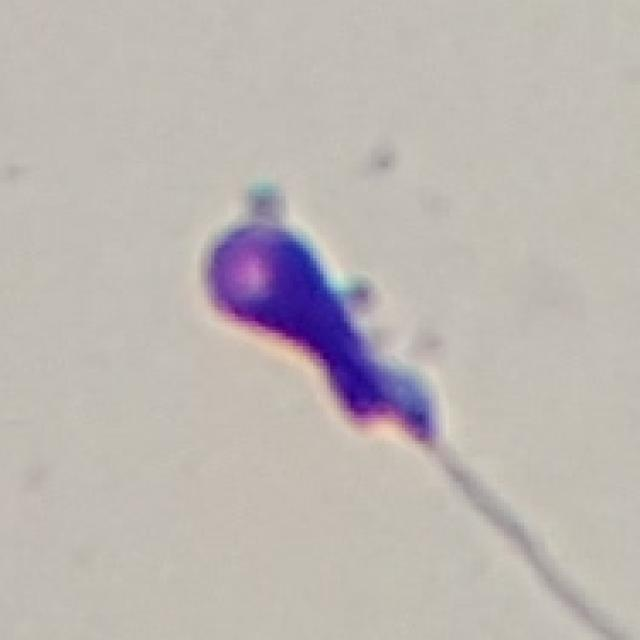abnormal sperm: (202, 212, 495, 514)
